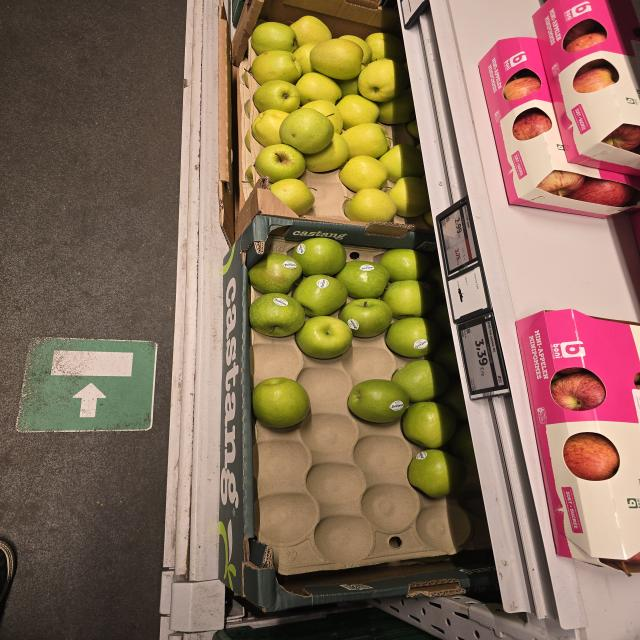Apple: (252, 377, 310, 428), (408, 449, 467, 498), (348, 379, 410, 423), (401, 402, 457, 449), (279, 108, 335, 154), (392, 359, 449, 402), (250, 293, 305, 337), (296, 316, 352, 359), (385, 317, 441, 358), (292, 275, 347, 316), (310, 38, 363, 80), (358, 59, 409, 102), (335, 260, 390, 299), (291, 237, 346, 276), (249, 253, 302, 293), (339, 298, 392, 338), (380, 281, 434, 319), (255, 144, 305, 183), (341, 123, 392, 159), (303, 133, 350, 172), (339, 155, 388, 192), (344, 188, 397, 222), (251, 51, 302, 85), (387, 177, 429, 217), (270, 178, 314, 216), (380, 144, 424, 182), (379, 249, 430, 281), (336, 94, 380, 130), (295, 72, 342, 105), (253, 80, 301, 112), (251, 22, 297, 55), (251, 109, 290, 147), (376, 89, 415, 125), (290, 16, 332, 46), (366, 32, 405, 63)
